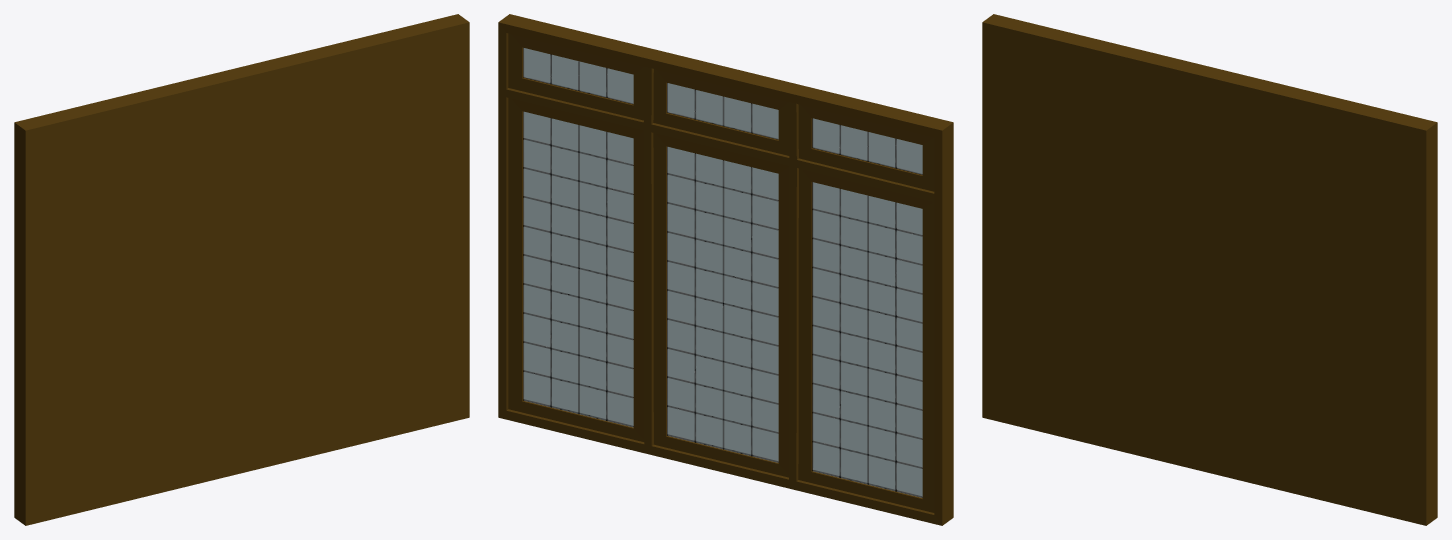
The model's file is BuildingWindow.fbx.
3 renders of one model, left to right at view 1: azimuth 30°, elevation 25°; view 2: azimuth 150°, elevation 25°; view 3: azimuth 330°, elevation 25°, orthographic.
Visible parts, largest first — view 1: BuildingWindow; view 2: BuildingWindow; view 3: BuildingWindow.
Part boxes in pixels (left/top/right/bottom): BuildingWindow: left=14, top=14, right=469, bottom=525; BuildingWindow: left=498, top=14, right=953, bottom=525; BuildingWindow: left=982, top=14, right=1437, bottom=525.
Size of the model in its own units: 32.32 by 1.43 by 27.5.
